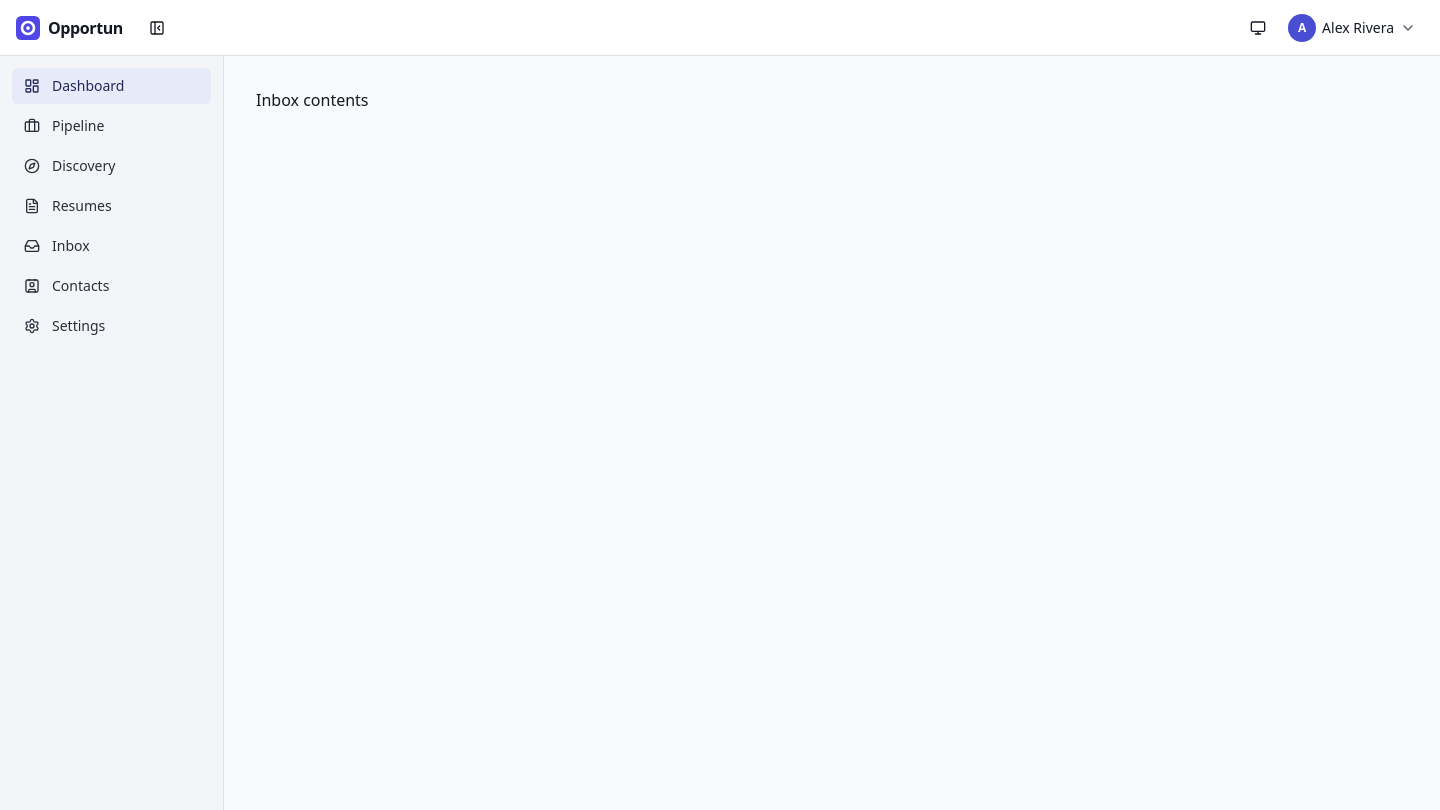
Scenario: AppShell account menu sign-out (issue #151) › cancelling the dialog leaves the session exactly as it was, so a retry is still possible
The width and height of the screenshot is (1440, 810).
Check: the navigation bar named "Main" is shown, box x1=0 y1=56 x2=224 y2=809
Click the button with aria-label "Account:".
click(1352, 28)  # box x1=1280 y1=10 x2=1424 y2=46
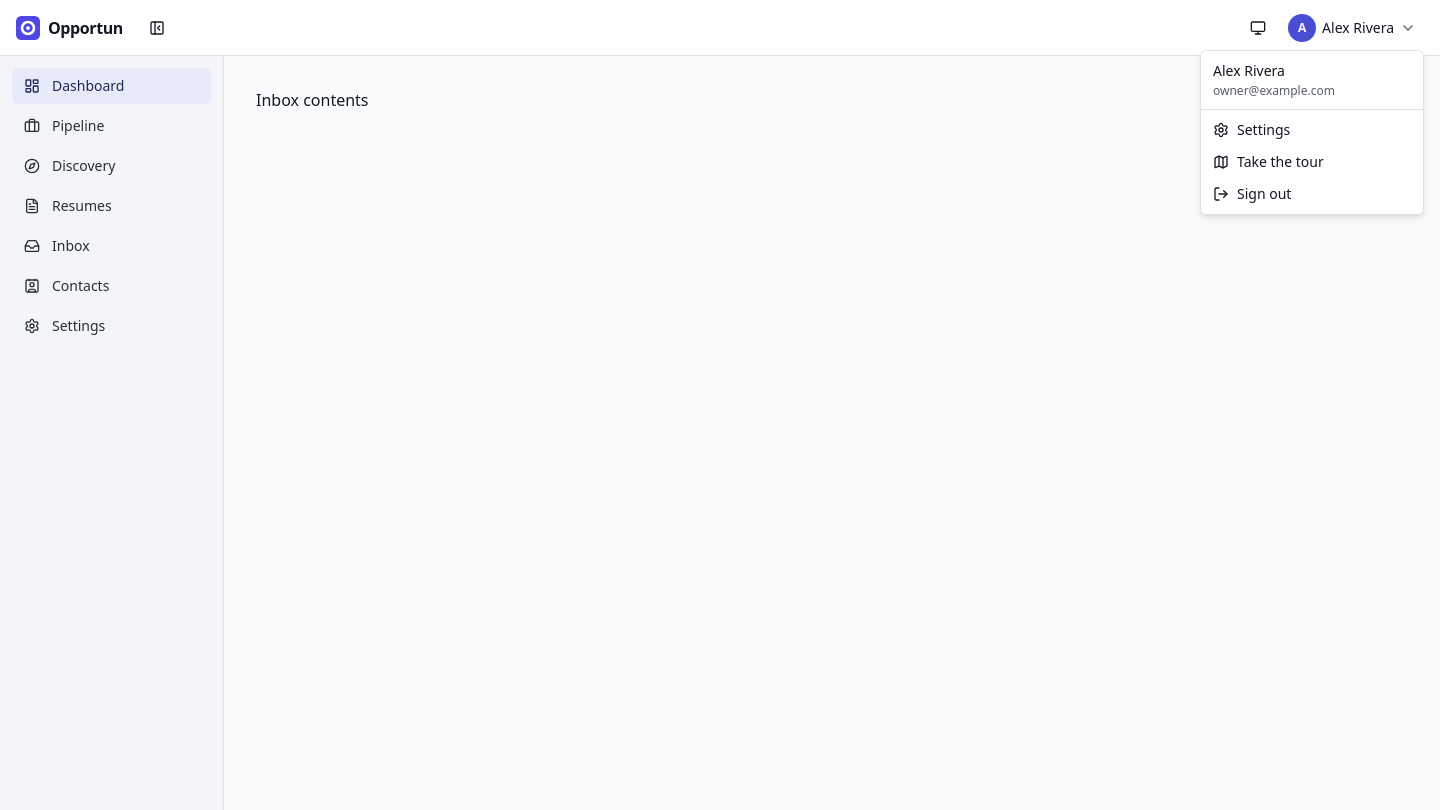
Click the menu item "Sign out".
click(1252, 194)  # box x1=1213 y1=184 x2=1291 y2=203
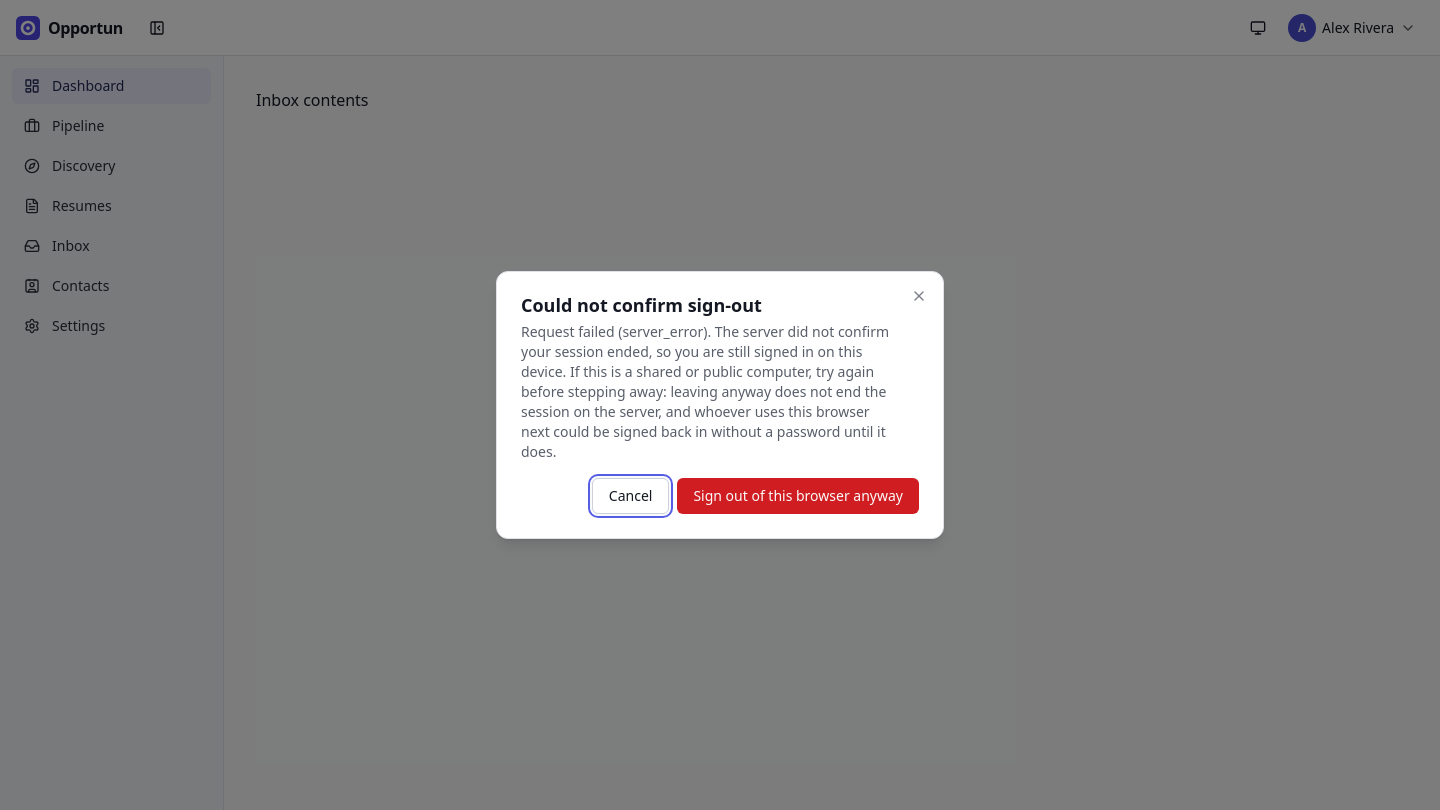
Check: the dialog "Could not confirm sign-out" is shown, box x1=496 y1=271 x2=944 y2=539
Click the button "Cancel".
click(631, 496)  # box x1=592 y1=478 x2=669 y2=514
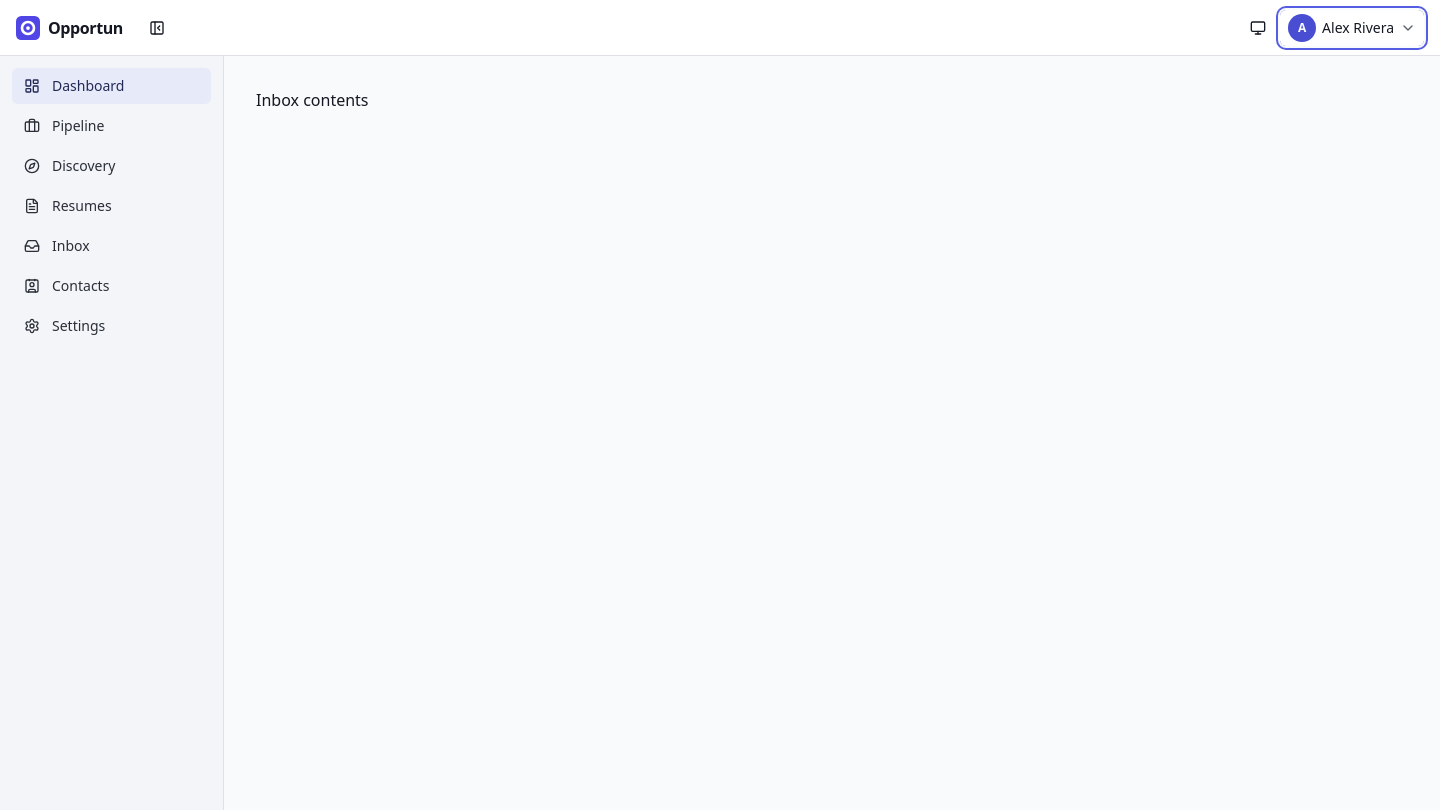
Check: the button with aria-label "Account:" is shown, box x1=1280 y1=10 x2=1424 y2=46
Check: the dialog is gone
